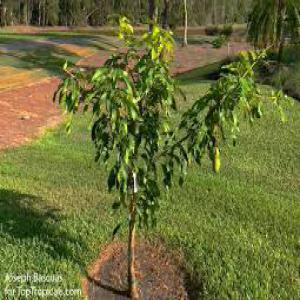Tree: (54, 12, 281, 296)
